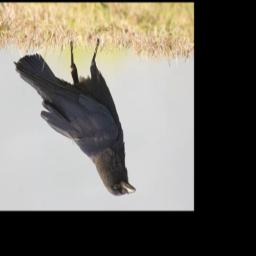Crow: (14, 38, 138, 197)
